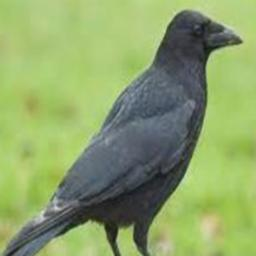Crow: (0, 8, 241, 256)
